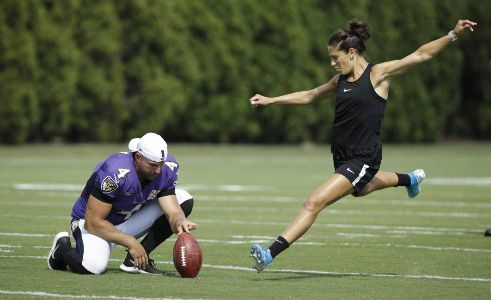futbol americano: (173, 232, 202, 278)
